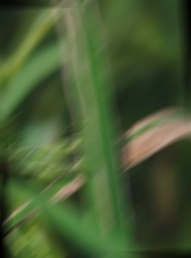Leaf_Blast: (60, 1, 126, 237)
